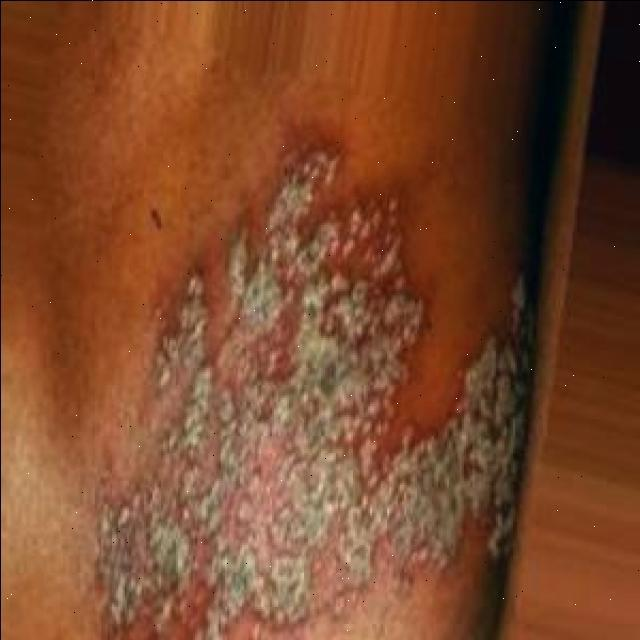Shingles: (89, 124, 525, 640)
